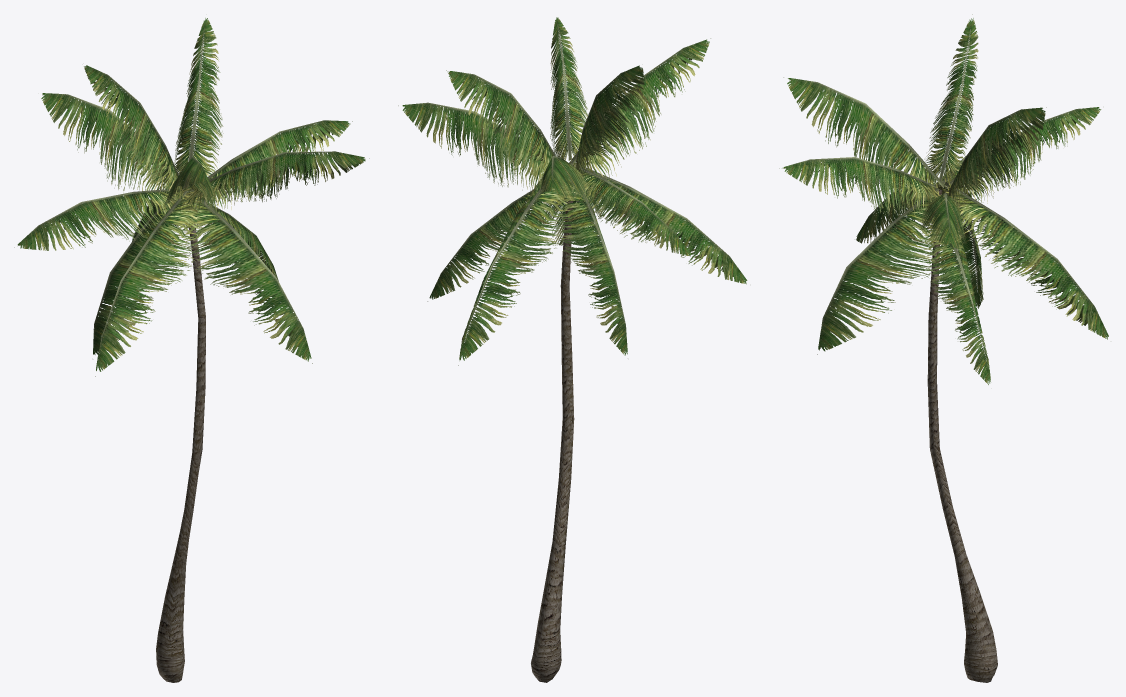
The model's file is palmLOD1.fbx.
The picture shows the model from 3 angles, left to right: view 1: azimuth 30°, elevation 25°; view 2: azimuth 150°, elevation 25°; view 3: azimuth 270°, elevation 25°; orthographic projection. The views are drawn at different scales.
Parts seen in each view (by area): view 1: polySurface184; view 2: polySurface184; view 3: polySurface184.
Part boxes in pixels (x1=…): polySurface184: x1=14, y1=18, x2=369, y2=682; polySurface184: x1=398, y1=17, x2=747, y2=682; polySurface184: x1=779, y1=14, x2=1108, y2=682.
Bounding box in the file's own units: 6.91 × 13.29 × 6.42.
